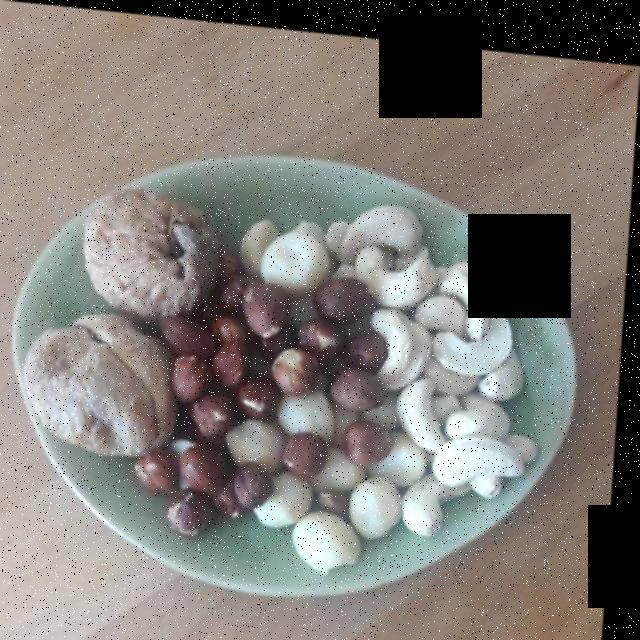fig-dried: (32, 189, 214, 461)
mixed-nuts: (153, 208, 539, 557)
